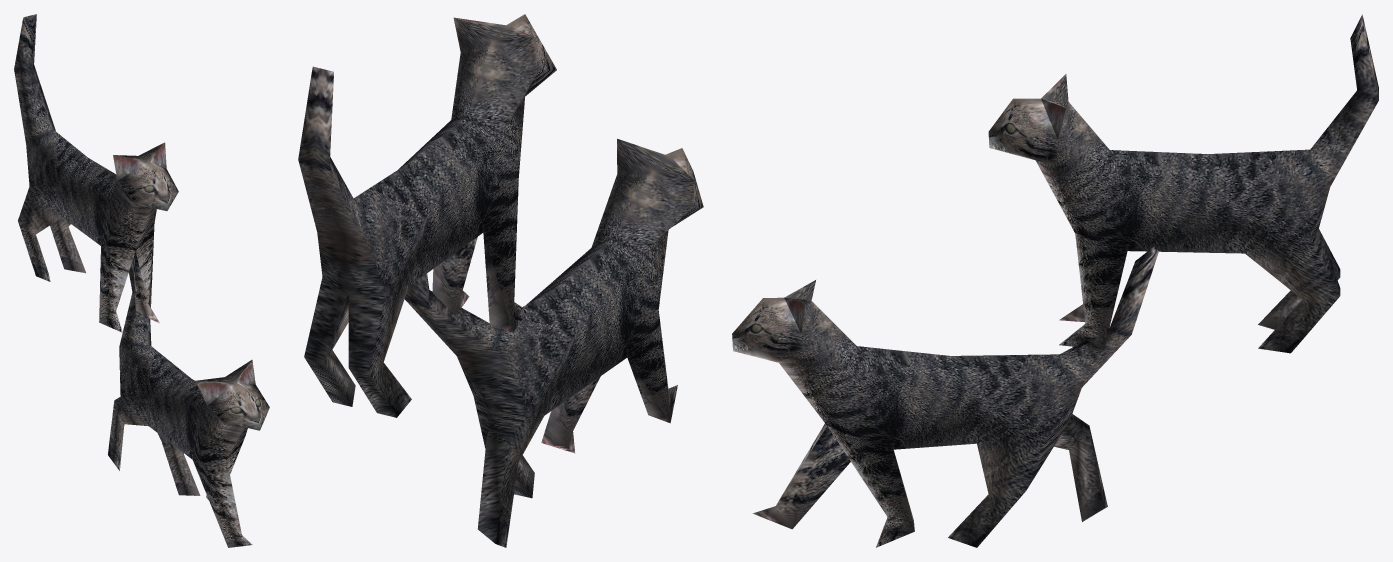
File: m_cat.glb
3 views of the same model, side by side, from view 1: azimuth 30°, elevation 25°; view 2: azimuth 150°, elevation 25°; view 3: azimuth 270°, elevation 25° (orthographic). The views are drawn at different scales.
Visible parts, largest first — view 1: Cube, Cube.001; view 2: Cube, Cube.001; view 3: Cube.001, Cube.
Part boxes in pixels (x1,y1,x2,y2): Cube: (14, 14, 178, 332); Cube.001: (108, 260, 269, 547); Cube: (298, 14, 556, 417); Cube.001: (404, 138, 703, 547); Cube.001: (732, 246, 1158, 547); Cube: (988, 14, 1378, 353).
Size of the model in its own units: 0.7205 by 3.76 by 4.27.
2 materials, 2 textured.
